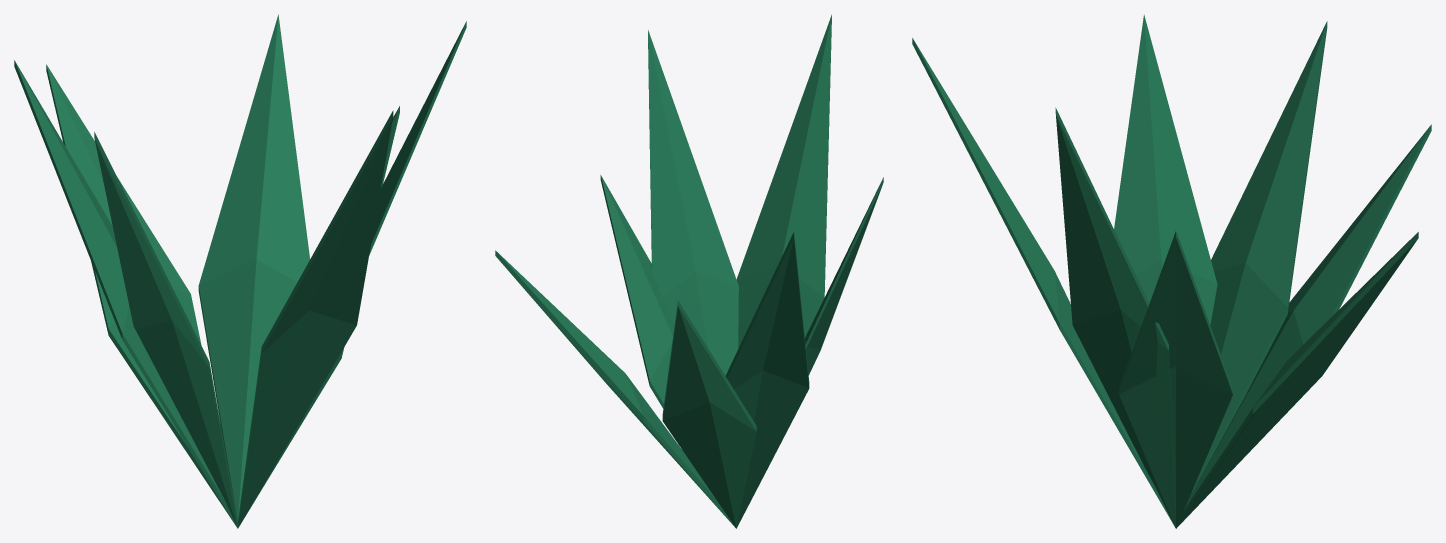
3 renders of one model, left to right at view 1: azimuth 30°, elevation 25°; view 2: azimuth 150°, elevation 25°; view 3: azimuth 270°, elevation 25°, orthographic. The views are drawn at different scales.
Parts seen in each view (by area): view 1: 完整草丛_1.001; view 2: 完整草丛_1.001; view 3: 完整草丛_1.001.
Part boxes in pixels (left/top/right/bottom): 完整草丛_1.001: left=14, top=14, right=466, bottom=528; 完整草丛_1.001: left=495, top=14, right=883, bottom=528; 完整草丛_1.001: left=912, top=14, right=1431, bottom=528.
Bounding box in the file's own units: 0.1996 × 0.2988 × 0.2805.
